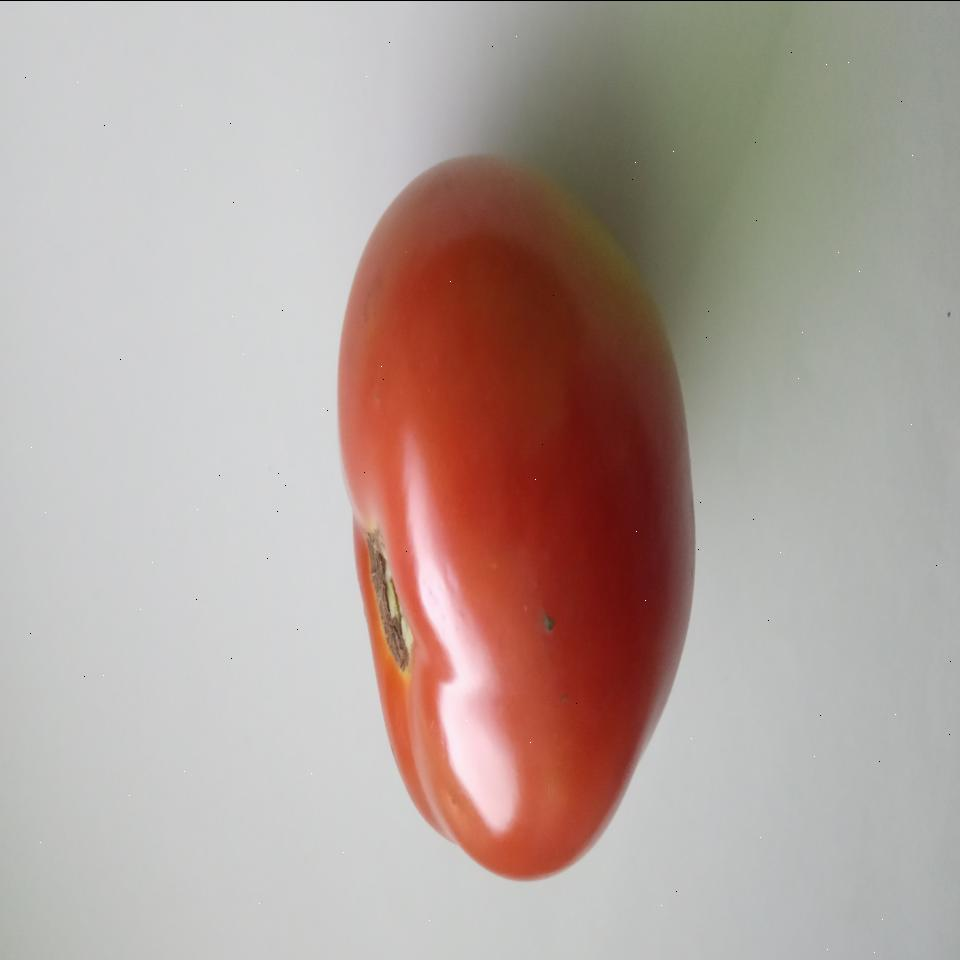Healthy: (327, 132, 702, 896)
